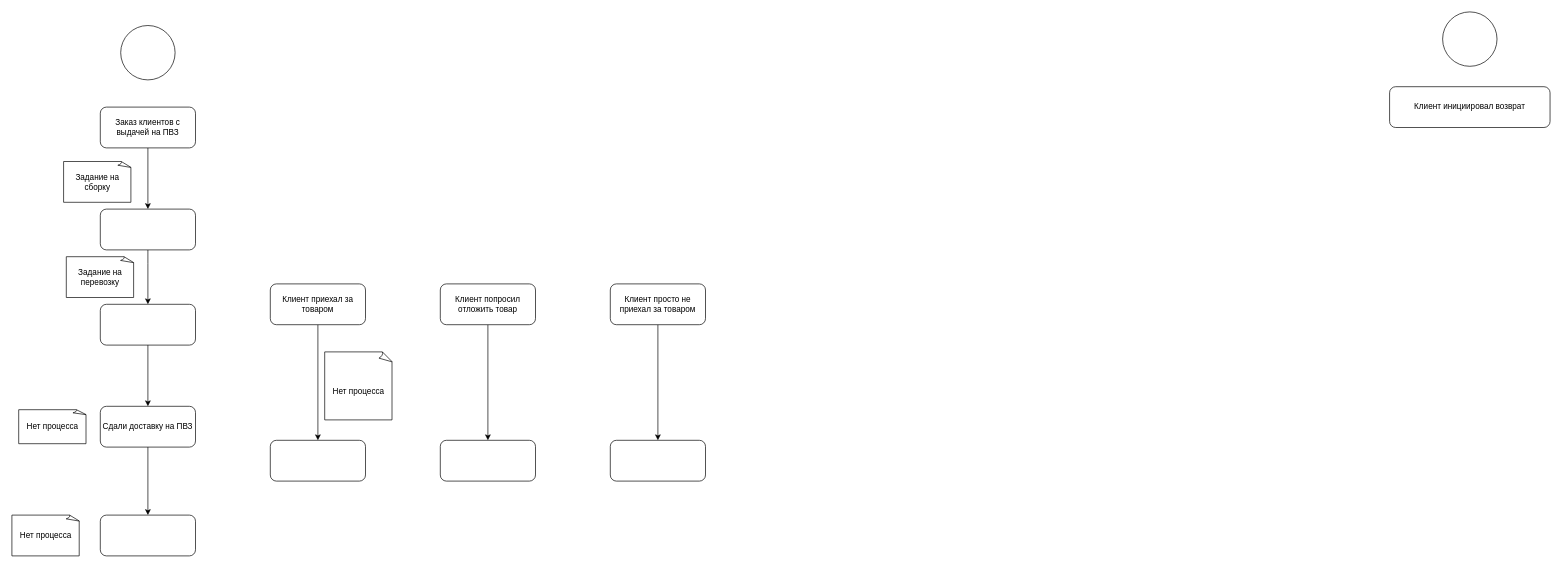
Some shapes in this 1562 by 568 pixel diagram are drawn without their labels. The shapes that lost their labels are listed below. From the top down, each one's centre as x and y in pixels, then its label:
point 148,229: Сборка заказа на складе
point 148,324: Доставили в ПВЗ 10 комплектов шин
point 318,460: Фиксация продажи товара
point 488,460: Откладываем и не забираем товар
point 658,460: Забираем товар обратно
point 148,535: Приняли на ПВЗ
